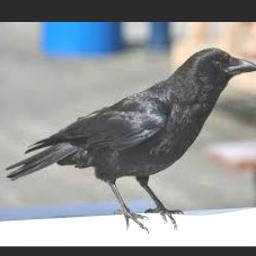Crow: (7, 46, 256, 230)
